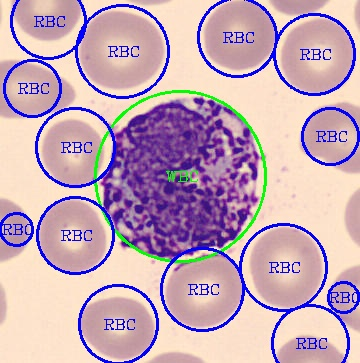RBC: (78, 8, 167, 91), (248, 225, 323, 310), (163, 253, 245, 328), (278, 16, 355, 95), (36, 196, 108, 273), (201, 0, 278, 72), (75, 294, 156, 361), (0, 58, 76, 119), (39, 118, 105, 188), (297, 101, 358, 176), (9, 0, 84, 43)
WBC: (105, 95, 260, 262)
